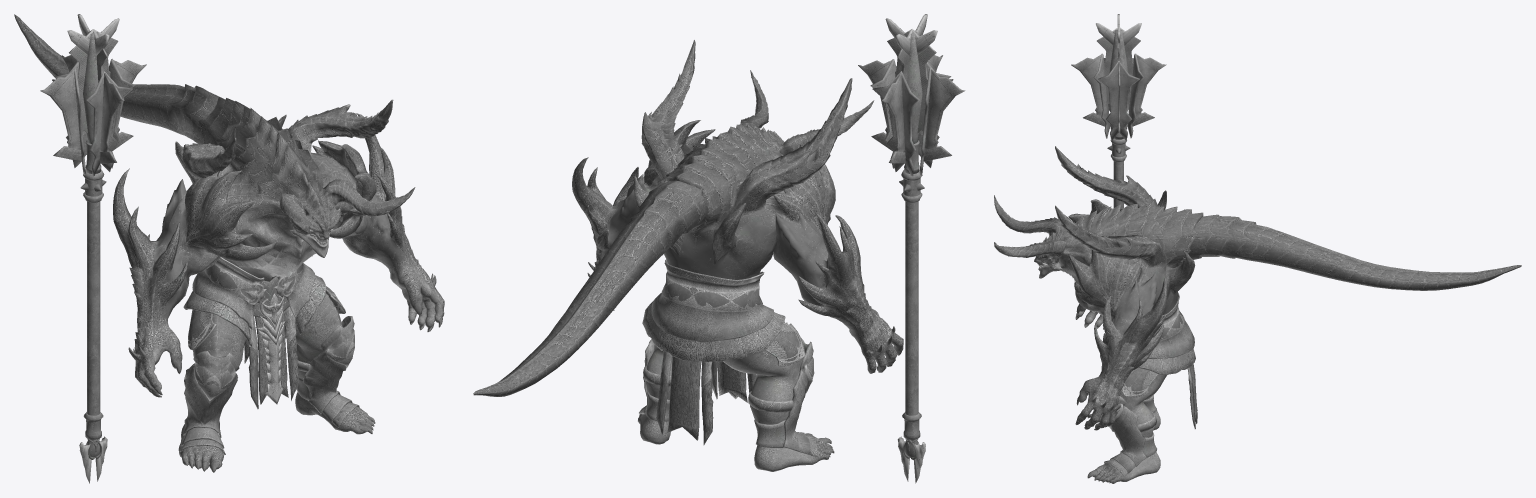
The model's file is pet-1184.glb.
The picture shows the model from 3 angles, left to right: view 1: azimuth 30°, elevation 25°; view 2: azimuth 150°, elevation 25°; view 3: azimuth 270°, elevation 25°; orthographic projection. The views are drawn at different scales.
Visible parts, largest first — view 1: VEH_Drakan_02; view 2: VEH_Drakan_02; view 3: VEH_Drakan_02.
Part boxes in pixels (x1=…): VEH_Drakan_02: x1=14, y1=14, x2=444, y2=483; VEH_Drakan_02: x1=473, y1=14, x2=965, y2=483; VEH_Drakan_02: x1=994, y1=14, x2=1521, y2=483.
Size of the model in its own units: 4.19 by 4.78 by 6.39.
Materials: 1 (1 with a texture image).
